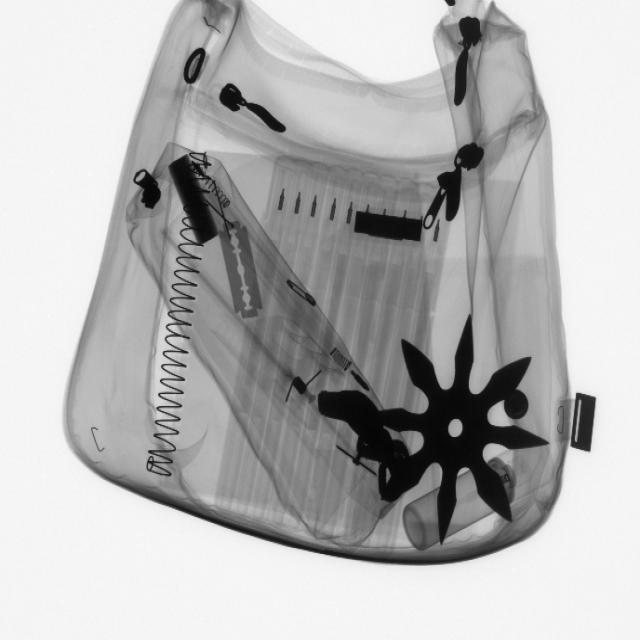BLADE: (217, 215, 269, 325)
SHURIKEN: (363, 314, 549, 544)
